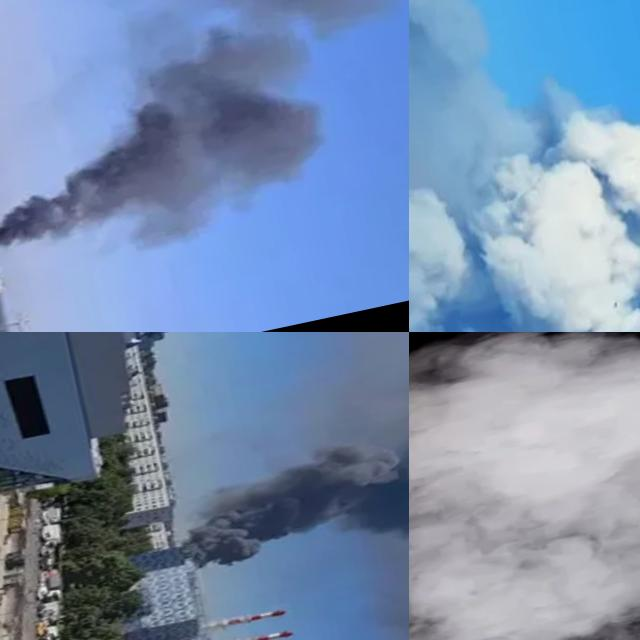smoke: (149, 336, 409, 622), (409, 332, 640, 640), (0, 68, 334, 264), (409, 49, 640, 332)
